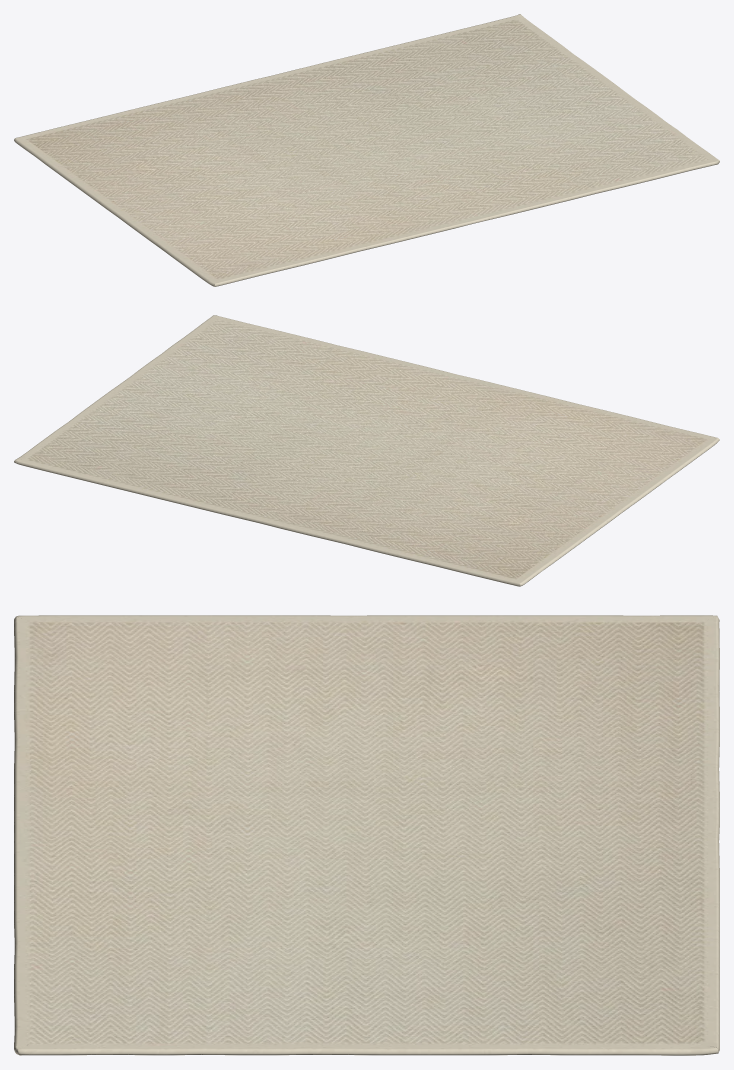
The picture shows the model from 3 angles, top to bottom: view 1: azimuth 30°, elevation 25°; view 2: azimuth 150°, elevation 25°; view 3: azimuth 270°, elevation 25°; orthographic projection. The views are drawn at different scales.
Visible parts, largest first — view 1: consolidatedNode; view 2: consolidatedNode; view 3: consolidatedNode.
Part boxes in pixels (x1,y1,x2,y2): consolidatedNode: (14, 14, 719, 286); consolidatedNode: (14, 315, 719, 586); consolidatedNode: (14, 615, 719, 1055).
Bounding box in the file's own units: 2.24 × 0.0167 × 1.53.
Materials: 1 (1 with a texture image).
